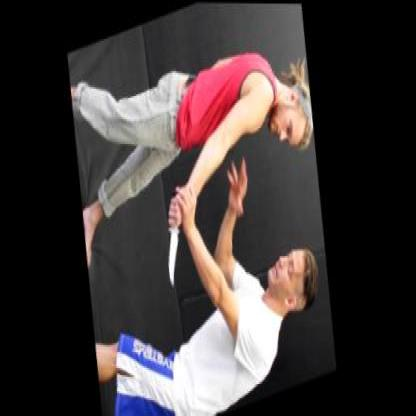knife: (154, 184, 192, 292)
